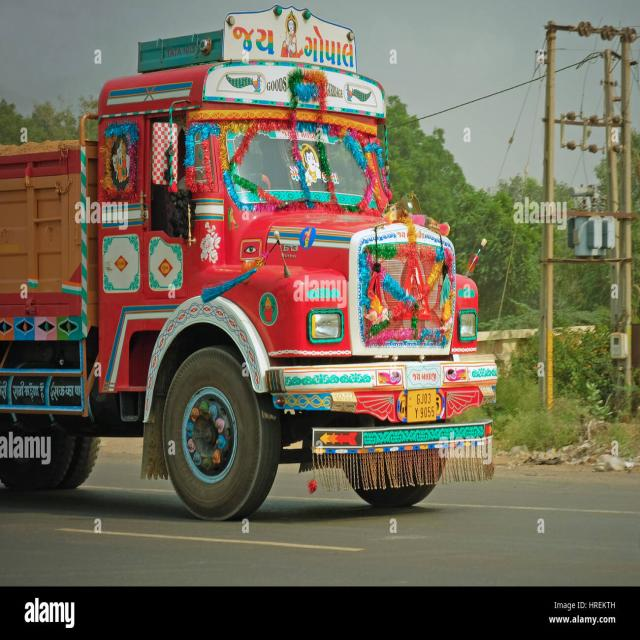Truck: (0, 9, 497, 516)
